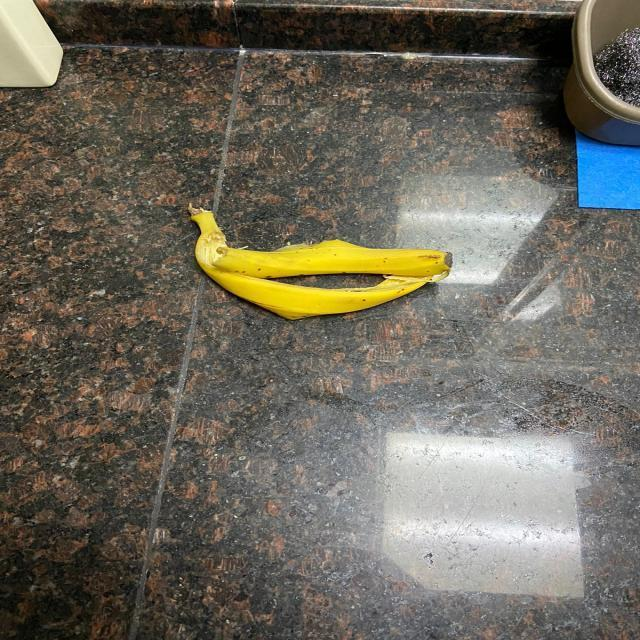Banana: (176, 208, 462, 326)
